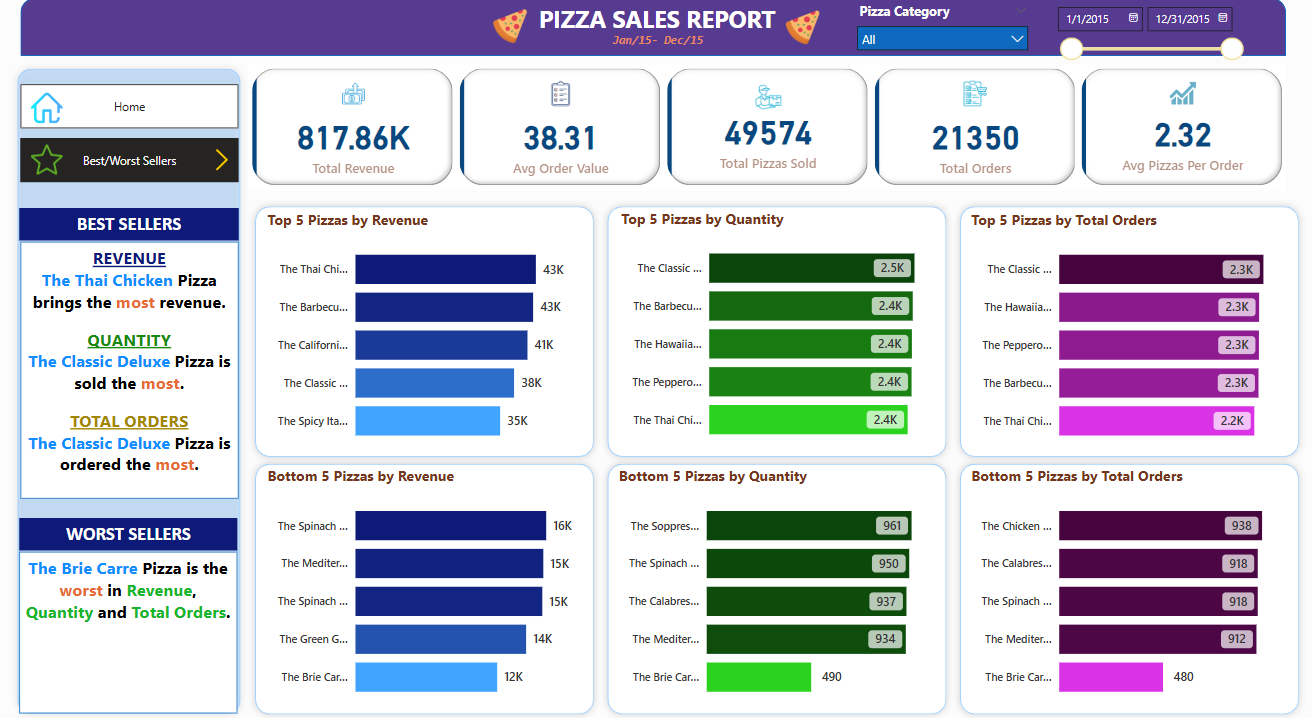

This screenshot's page, from the dashboard's own definition file:
{"tool":"powerbi","page":{"name":"Best/Worst Sellers","canvas":[1500,820],"ordinal":1},"visuals":[{"type":"cardVisual","fields":{"Data":["pizza_sales pizza.Total Revenue","pizza_sales pizza.Avg Order Value","pizza_sales pizza.Total Pizzas Sold","pizza_sales pizza.Total Orders","pizza_sales pizza.Avg Pizzas Per Order"]},"box":[282.9,75.7,1177.1,142.9],"z":0},{"type":"shape","box":[14.3,72.9,268.6,747.1],"z":1000},{"type":"shape","box":[25.7,0,1434.3,65.7],"z":2000},{"type":"textbox","box":[607.1,0,290,50],"z":3000},{"type":"textbox","box":[691.4,32.9,122.9,32.9],"z":4000},{"type":"textbox","box":[24.3,238.6,248.6,37.1],"z":5000},{"type":"image","box":[554.3,7.1,52.9,50],"z":6000},{"type":"image","box":[878.6,8.6,67.1,50],"z":7000},{"type":"shape","box":[282.9,228.6,400,300],"z":8000},{"type":"textbox","box":[25.7,275.7,247.1,291.4],"z":9000},{"type":"textbox","box":[24.3,590,247.1,37.1],"z":10000},{"type":"textbox","box":[24.3,627.1,247.1,182.9],"z":11000},{"type":"slicer","fields":{"Values":["pizza_sales pizza.pizza_category"]},"box":[962.9,0,214.3,65.7],"z":12000},{"type":"slicer","fields":{"Values":["pizza_sales pizza.order_date"]},"box":[1188.6,0,231.4,75.7],"z":13000},{"type":"shape","box":[682.9,228.6,400,300],"z":14000},{"type":"shape","box":[1082.9,228.6,400,300],"z":15000},{"type":"shape","box":[282.9,520,400,300],"z":16000},{"type":"shape","box":[682.9,520,400,300],"z":17000},{"type":"shape","box":[1082.9,520,400,300],"z":18000},{"type":"barChart","title":"Top 5 Pizzas by Revenue","fields":{"Category":["pizza_sales pizza.pizza_name"],"Y":["pizza_sales pizza.Total Revenue"]},"box":[300,240,368.6,280],"z":19000},{"type":"barChart","title":"Bottom 5 Pizzas by Revenue","fields":{"Category":["pizza_sales pizza.pizza_name"],"Y":["pizza_sales pizza.Total Revenue"]},"box":[300,530,368.6,280],"z":20000},{"type":"barChart","title":"Top 5 Pizzas by Quantity","fields":{"Category":["pizza_sales pizza.pizza_name"],"Y":["pizza_sales pizza.Total Pizzas Sold"]},"box":[701.4,238.6,368.6,280],"z":21000},{"type":"barChart","title":"Bottom 5 Pizzas by Quantity","fields":{"Category":["pizza_sales pizza.pizza_name"],"Y":["pizza_sales pizza.Total Pizzas Sold"]},"box":[698.6,530,368.6,280],"z":22000},{"type":"barChart","title":"Top 5 Pizzas by Total Orders","fields":{"Category":["pizza_sales pizza.pizza_name"],"Y":["pizza_sales pizza.Total Orders"]},"box":[1098.6,240,368.6,280],"z":23000},{"type":"barChart","title":"Bottom 5 Pizzas by Total Orders","fields":{"Category":["pizza_sales pizza.pizza_name"],"Y":["pizza_sales pizza.Total Orders"]},"box":[1098.6,530,368.6,280],"z":24000},{"type":"pageNavigator","box":[25.7,97.1,247.1,50],"z":24001},{"type":"pageNavigator","box":[25.7,158.6,247.1,50],"z":24002},{"type":"image","box":[237.1,162.9,34.3,41.4],"z":24003},{"type":"image","box":[32.9,97.1,45.7,54.3],"z":24004},{"type":"image","box":[32.9,158.6,45.7,48.6],"z":24005}]}

Visuals, with their boxes in screenshot pixels (x1, y1, x2, y2), scaled from the page's 1500x820 canvas onto the 1312x718 screenshot:
cardVisual - pizza_sales pizza.Total Revenue x pizza_sales pizza.Avg Order Value: bbox(247, 66, 1277, 191)
shape: bbox(13, 64, 247, 717)
shape: bbox(22, 0, 1277, 58)
textbox: bbox(531, 0, 785, 44)
textbox: bbox(605, 29, 712, 58)
textbox: bbox(21, 209, 239, 241)
image: bbox(485, 6, 531, 50)
image: bbox(768, 8, 827, 51)
shape: bbox(247, 200, 597, 463)
textbox: bbox(22, 241, 239, 497)
textbox: bbox(21, 517, 237, 549)
textbox: bbox(21, 549, 237, 709)
slicer - pizza_sales pizza.pizza_category: bbox(842, 0, 1030, 58)
slicer - pizza_sales pizza.order_date: bbox(1040, 0, 1242, 66)
shape: bbox(597, 200, 947, 463)
shape: bbox(947, 200, 1297, 463)
shape: bbox(247, 455, 597, 717)
shape: bbox(597, 455, 947, 717)
shape: bbox(947, 455, 1297, 717)
"Top 5 Pizzas by Revenue" barChart: bbox(262, 210, 585, 455)
"Bottom 5 Pizzas by Revenue" barChart: bbox(262, 464, 585, 709)
"Top 5 Pizzas by Quantity" barChart: bbox(613, 209, 936, 454)
"Bottom 5 Pizzas by Quantity" barChart: bbox(611, 464, 933, 709)
"Top 5 Pizzas by Total Orders" barChart: bbox(961, 210, 1283, 455)
"Bottom 5 Pizzas by Total Orders" barChart: bbox(961, 464, 1283, 709)
pageNavigator: bbox(22, 85, 239, 129)
pageNavigator: bbox(22, 139, 239, 183)
image: bbox(207, 143, 237, 179)
image: bbox(29, 85, 69, 133)
image: bbox(29, 139, 69, 181)
